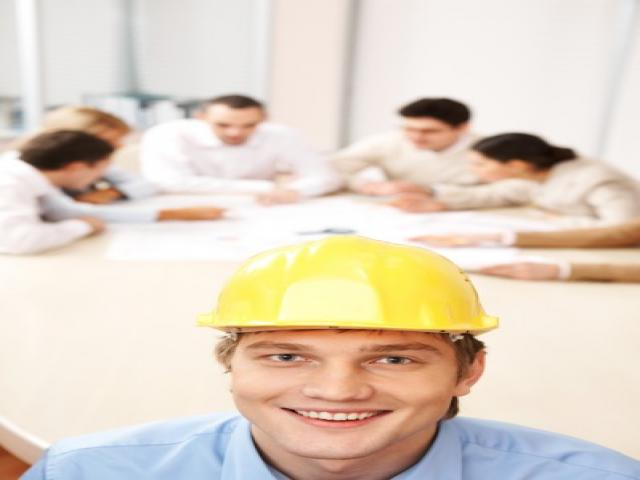Helmet: (188, 225, 510, 341)
